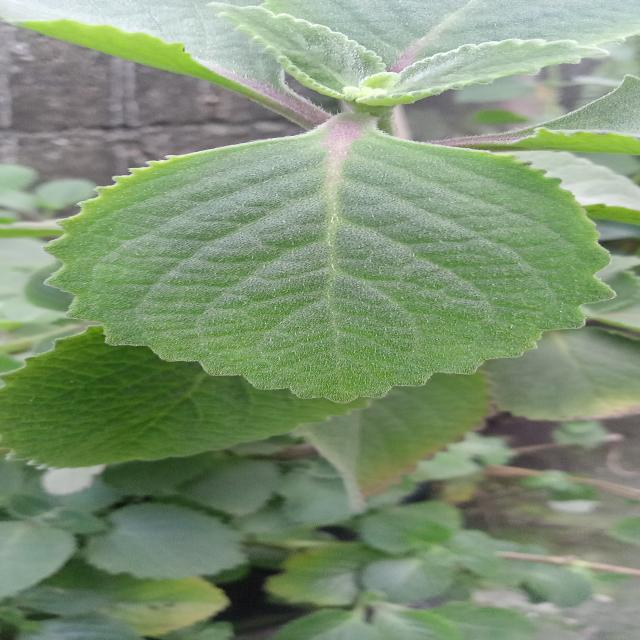Oregano: (28, 92, 640, 428)
